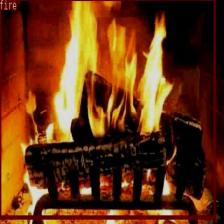fire: (0, 0, 215, 218)
